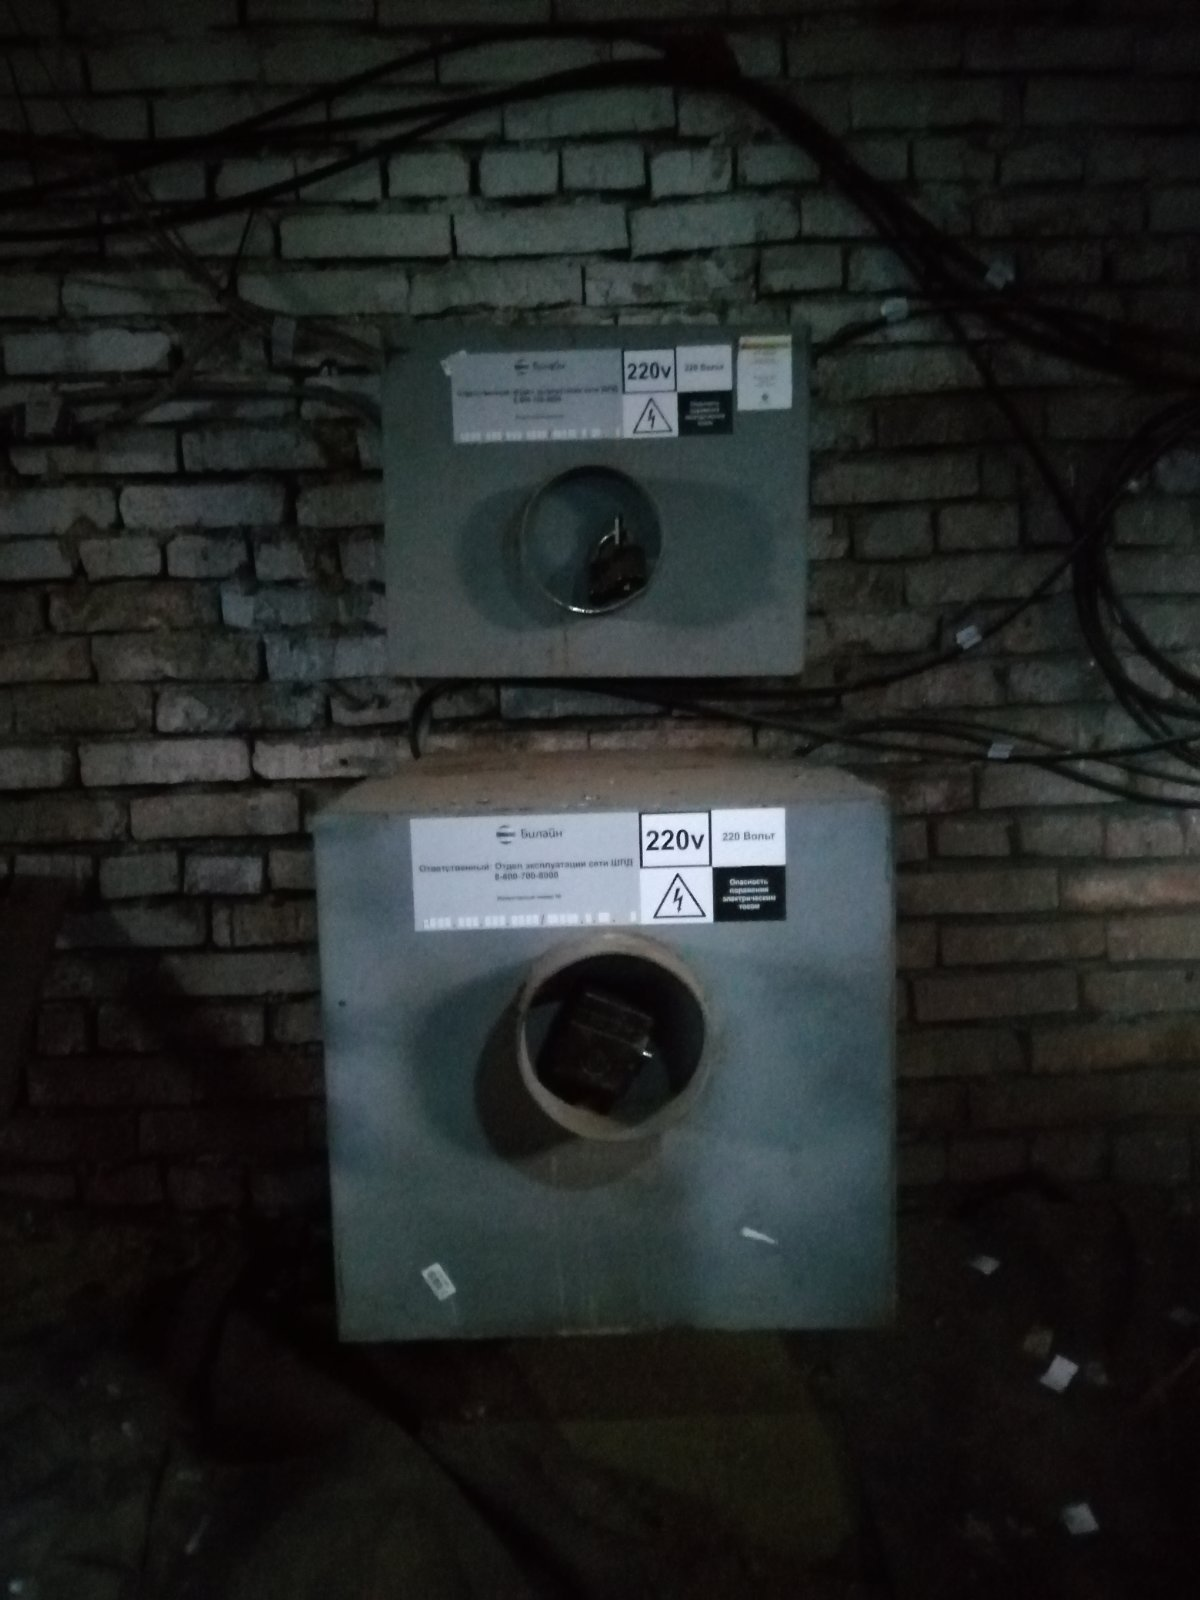shta-3: (359, 307, 827, 695)
shta-9: (287, 737, 942, 1362)
